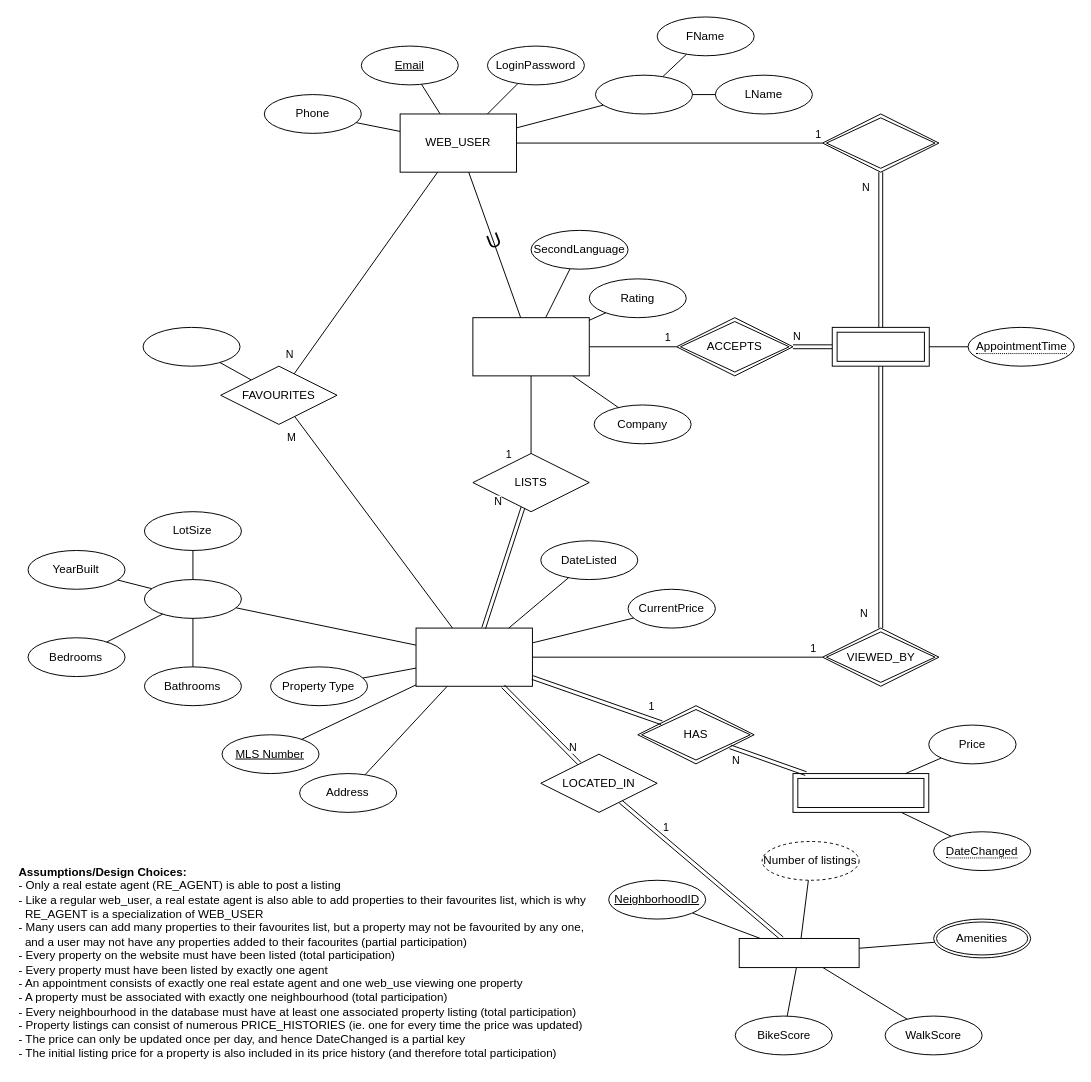
Some shapes in this 1091 by 1082 pixel diagram are drawn without their labels. Here are the shapes that lost their labels. From the top down, the box of each, then its label:
(595, 74, 692, 114): Name
(822, 113, 939, 172): REQUESTS
(142, 326, 240, 366): DateSaved
(472, 317, 589, 376): RE_AGENT
(831, 326, 929, 366): APPOINTMENT
(143, 579, 241, 618): Features
(415, 627, 532, 686): PROPERTY
(792, 773, 929, 812): PRICE_HISTORY
(738, 938, 859, 968): NEIGHBORHOOD
